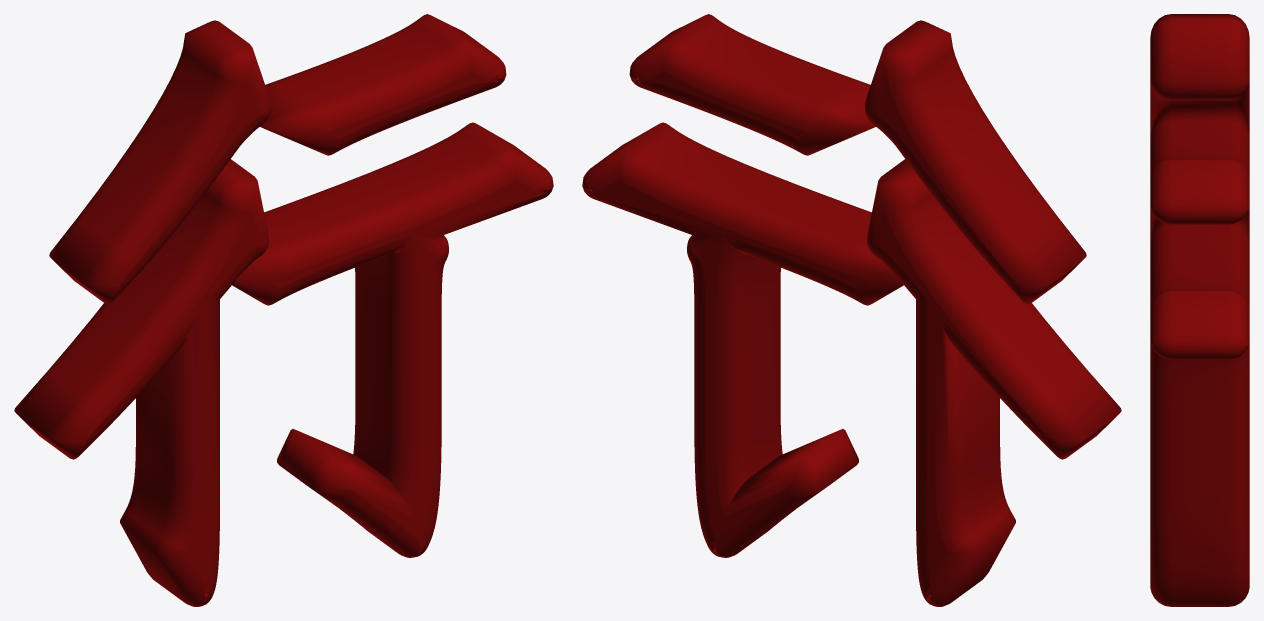
The model's file is xing.fbx.
3 renders of one model, left to right at view 1: azimuth 30°, elevation 25°; view 2: azimuth 150°, elevation 25°; view 3: azimuth 270°, elevation 25°, orthographic. The views are drawn at different scales.
Visible parts, largest first — view 1: Text.001; view 2: Text.001; view 3: Text.001.
Boxes of the visible parts, left/top/right/bottom form: Text.001: left=14, top=14, right=553, bottom=606; Text.001: left=582, top=14, right=1121, bottom=606; Text.001: left=1150, top=14, right=1249, bottom=606.
Size of the model in its own units: 76.01 by 79.47 by 14.
